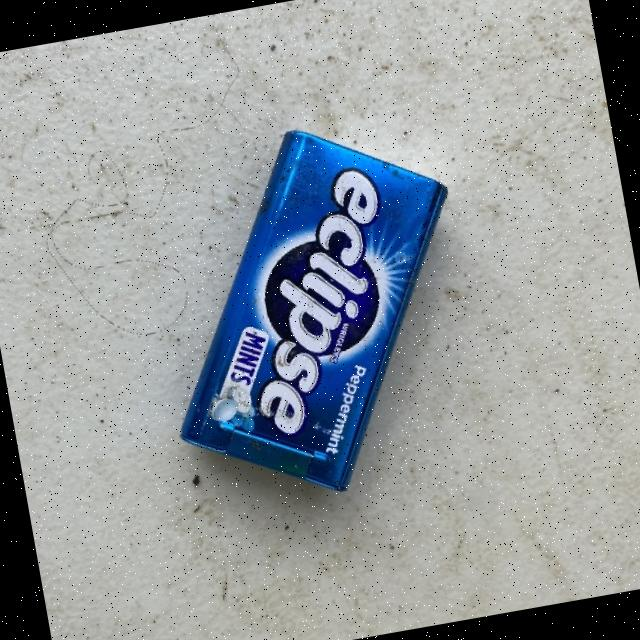metal: (128, 103, 496, 517)
